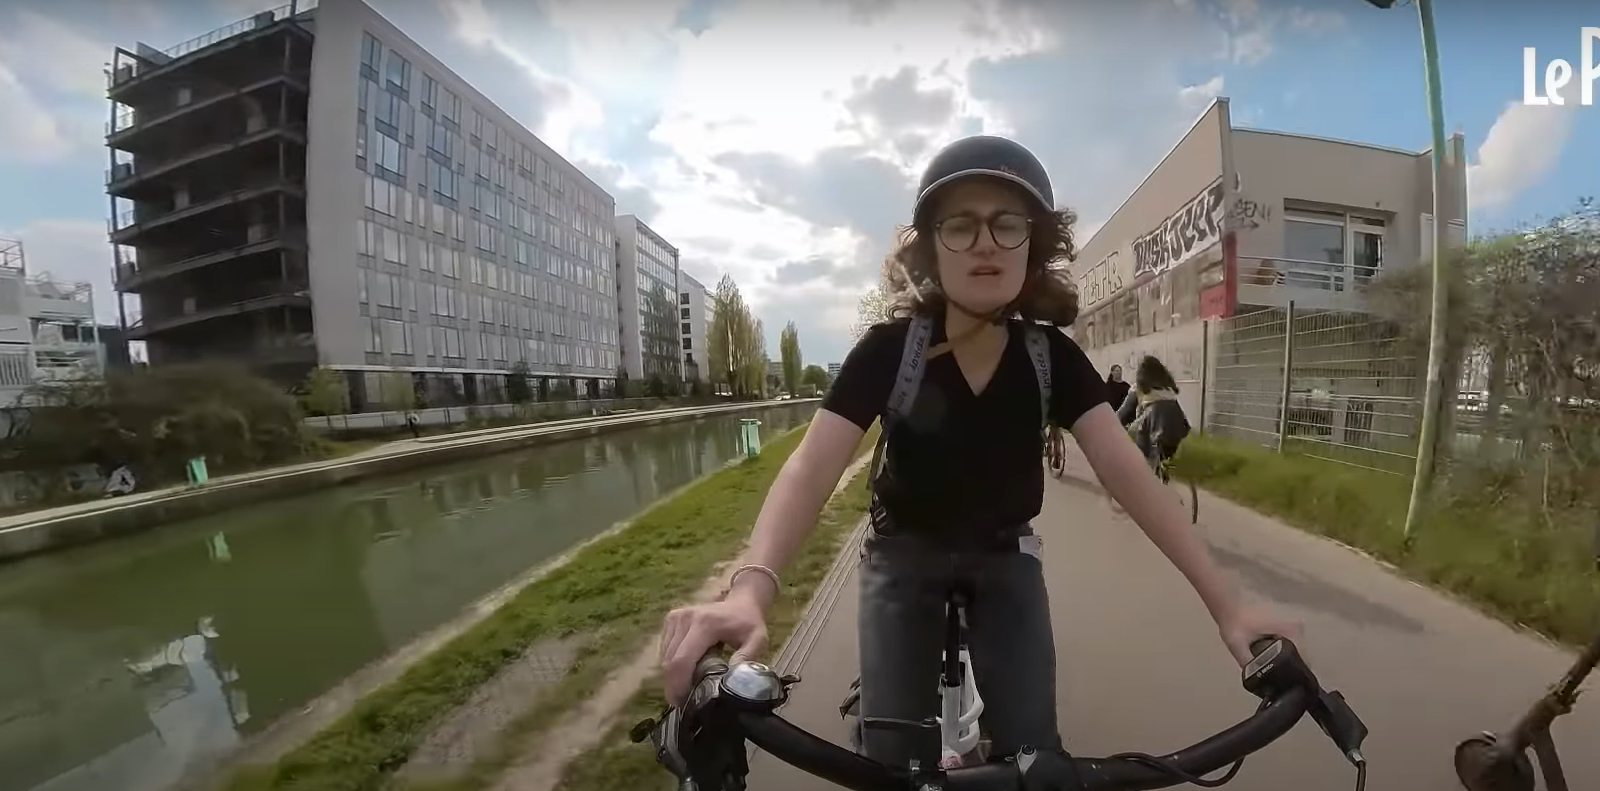without_mask: (932, 188, 1034, 314)
